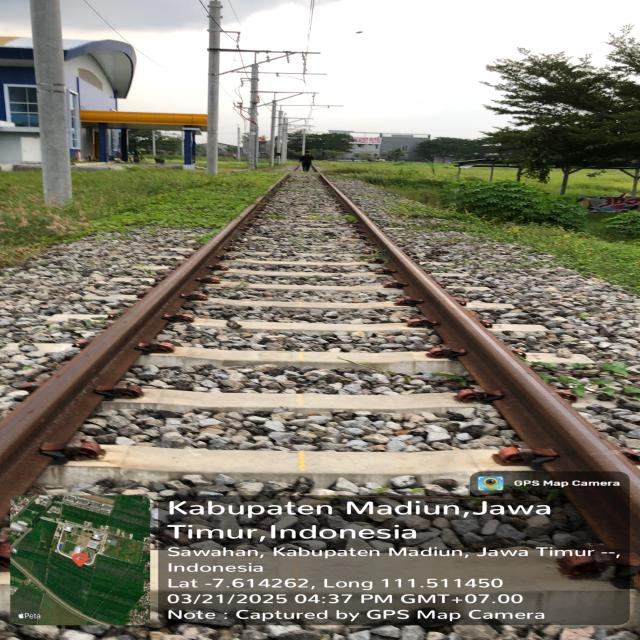rail-detection: (320, 176, 640, 564), (0, 205, 260, 515)
